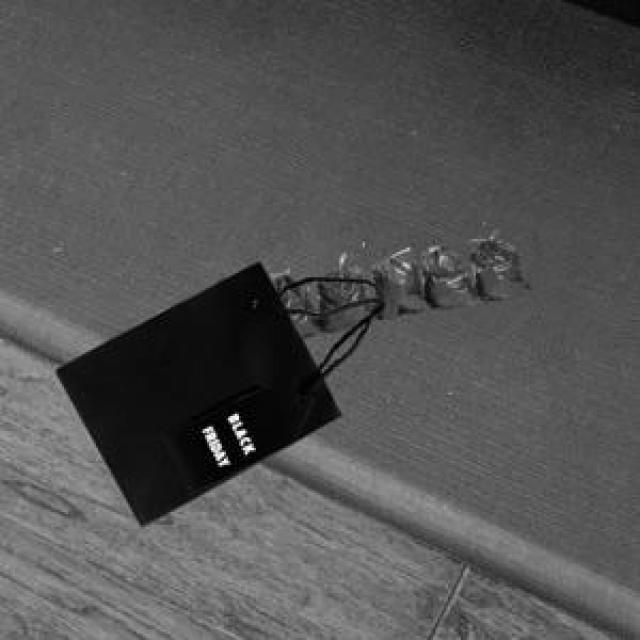miscellaneous trash: (269, 233, 527, 335)
paper: (51, 258, 382, 523)
